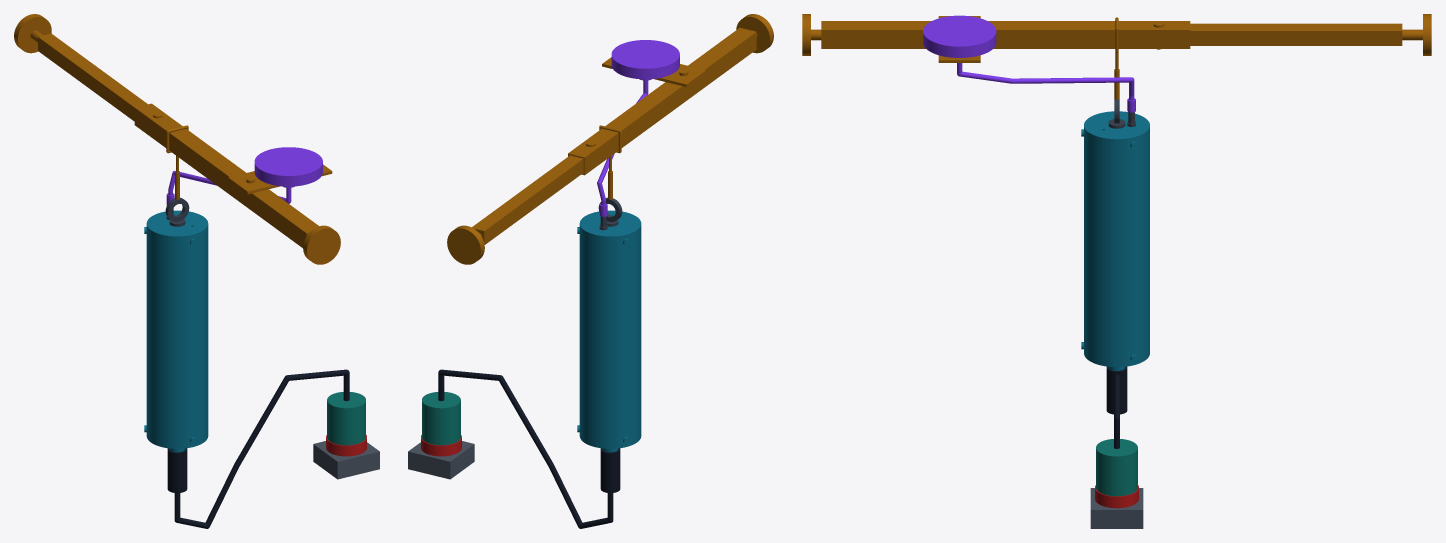
The picture shows the model from 3 angles, left to right: view 1: azimuth 30°, elevation 25°; view 2: azimuth 150°, elevation 25°; view 3: azimuth 270°, elevation 25°; orthographic projection. The views are drawn at different scales.
Visible parts, largest first — view 1: Logger housing, IP68, Neck bar hanger and lanyard, Sensor cable, M12 IP68, Flat LoRa antenna, Sensor puck body, potted, Valve spindle cap (existing), Pot magnet, 42 mm, Eye bolt and SMA bulkhead; view 2: Logger housing, IP68, Neck bar hanger and lanyard, Sensor cable, M12 IP68, Flat LoRa antenna, Sensor puck body, potted, Valve spindle cap (existing), Pot magnet, 42 mm; view 3: Logger housing, IP68, Neck bar hanger and lanyard, Flat LoRa antenna, Sensor puck body, potted, Valve spindle cap (existing), Sensor cable, M12 IP68.
Boxes of the visible parts, x1=… form: Logger housing, IP68: x1=144, y1=210, x2=208, y2=452; Neck bar hanger and lanyard: x1=14, y1=14, x2=340, y2=264; Sensor cable, M12 IP68: x1=167, y1=369, x2=349, y2=528; Flat LoRa antenna: x1=166, y1=147, x2=322, y2=205; Sensor puck body, potted: x1=327, y1=392, x2=365, y2=445; Valve spindle cap (existing): x1=313, y1=441, x2=379, y2=479; Pot magnet, 42 mm: x1=326, y1=435, x2=366, y2=456; Eye bolt and SMA bulkhead: x1=165, y1=197, x2=189, y2=226; Logger housing, IP68: x1=577, y1=210, x2=641, y2=452; Neck bar hanger and lanyard: x1=447, y1=14, x2=773, y2=264; Sensor cable, M12 IP68: x1=438, y1=369, x2=620, y2=528; Flat LoRa antenna: x1=597, y1=40, x2=679, y2=216; Sensor puck body, potted: x1=422, y1=392, x2=460, y2=445; Valve spindle cap (existing): x1=408, y1=441, x2=474, y2=479; Pot magnet, 42 mm: x1=421, y1=435, x2=461, y2=456; Logger housing, IP68: x1=1081, y1=111, x2=1149, y2=370; Neck bar hanger and lanyard: x1=802, y1=14, x2=1431, y2=99; Flat LoRa antenna: x1=923, y1=15, x2=1135, y2=112; Sensor puck body, potted: x1=1096, y1=439, x2=1137, y2=496; Valve spindle cap (existing): x1=1090, y1=488, x2=1143, y2=528; Sensor cable, M12 IP68: x1=1106, y1=366, x2=1127, y2=448.
Size of the model in its own units: 0.2565 by 0.473 by 0.6.
